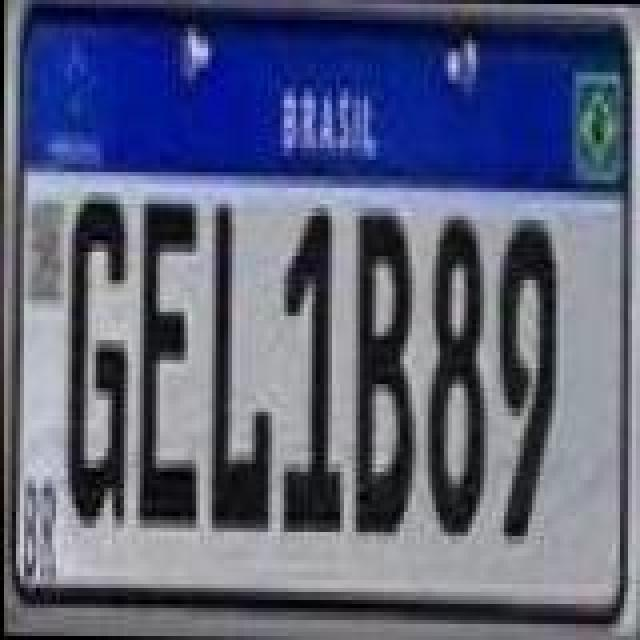1: (278, 208, 350, 544)
8: (426, 210, 490, 546)
9: (494, 216, 562, 552)
B: (350, 206, 422, 550)
E: (136, 194, 204, 538)
G: (64, 196, 132, 532)
L: (206, 194, 278, 538)
